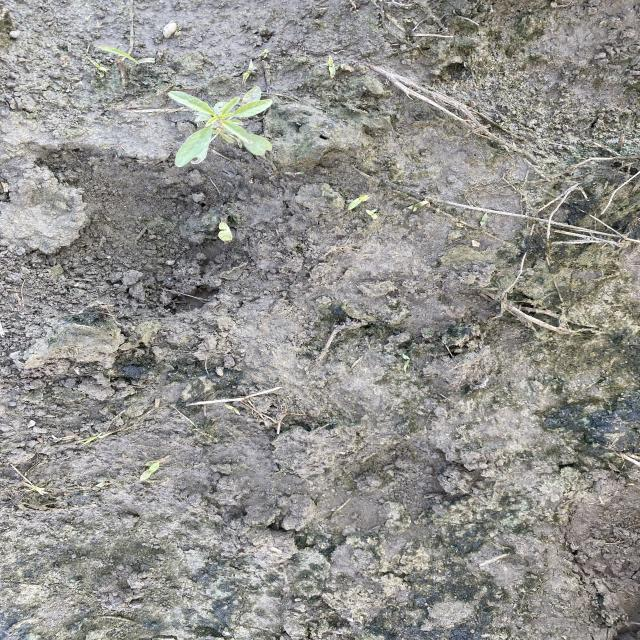Waterhemp: (167, 86, 276, 168)
